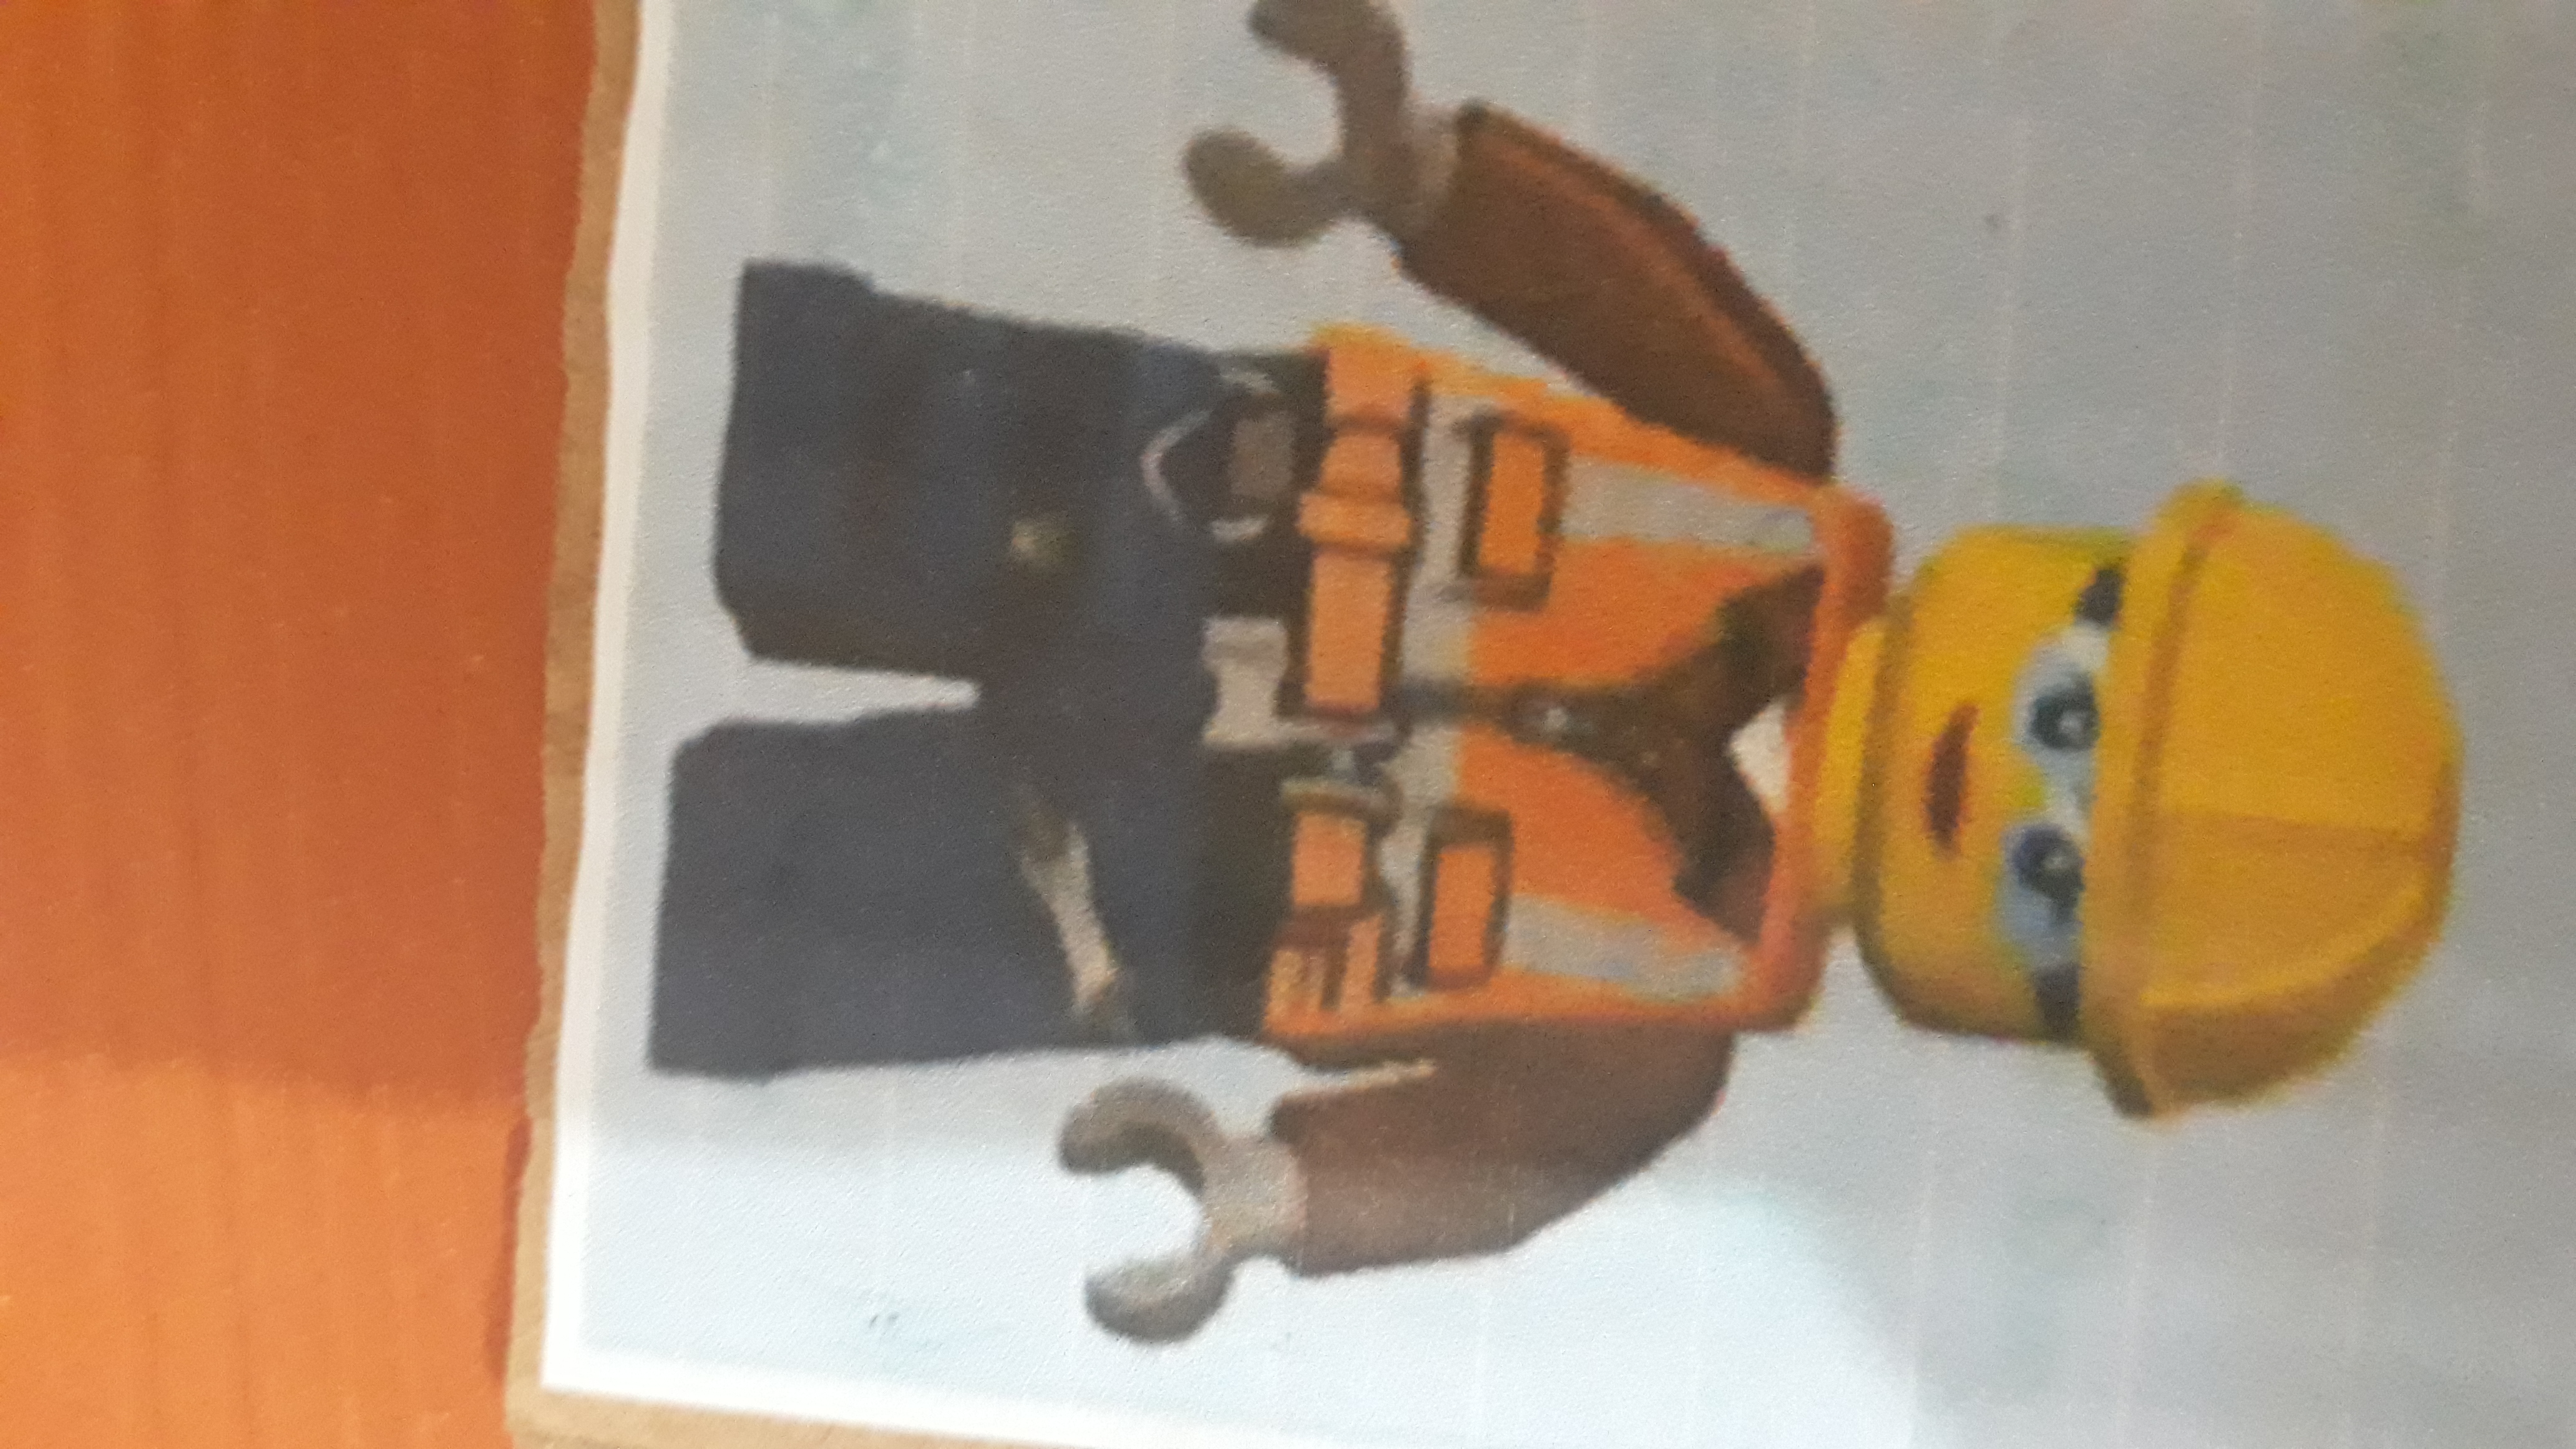pedestrian: (670, 35, 2505, 1365)
